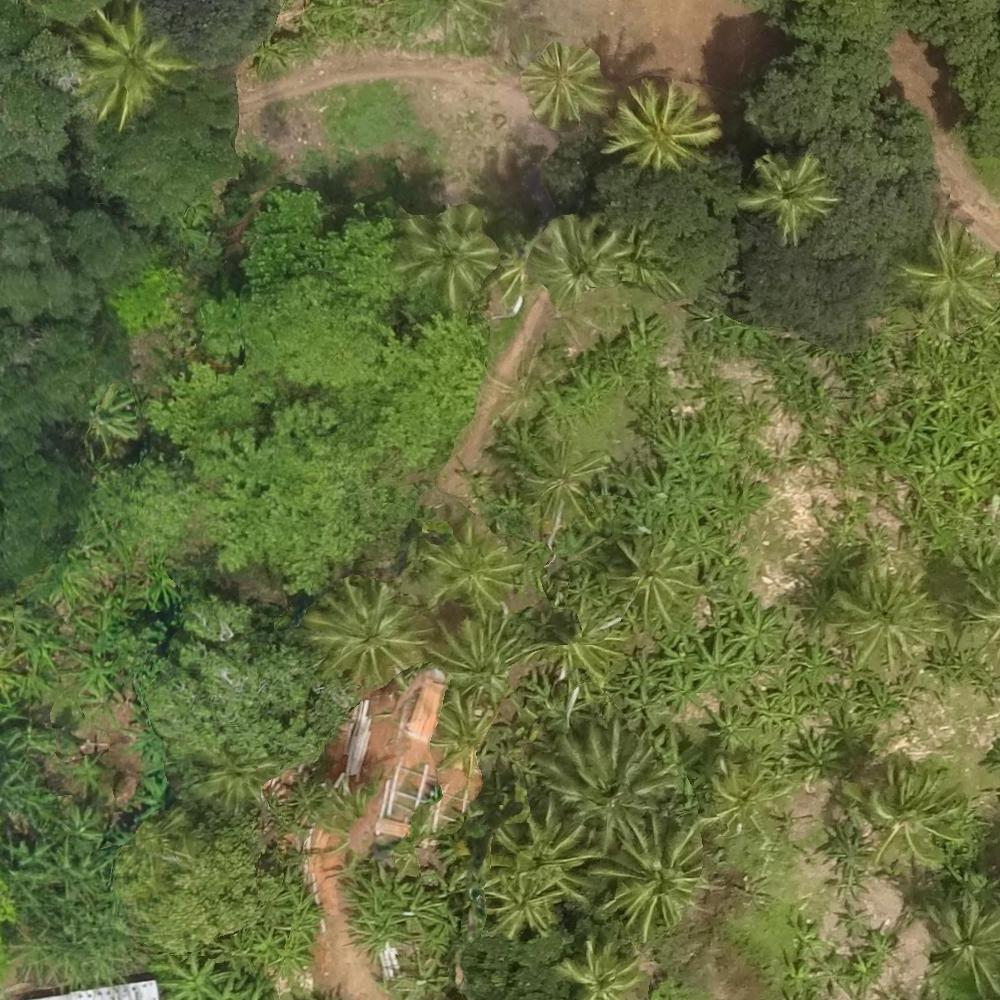Palm: (554, 726, 666, 835), (77, 11, 187, 119), (600, 823, 704, 933), (495, 800, 596, 904), (318, 583, 417, 682), (899, 229, 994, 326), (871, 768, 967, 863), (612, 84, 715, 169), (839, 574, 928, 667), (396, 211, 491, 298), (425, 524, 519, 607), (749, 151, 838, 231), (428, 613, 517, 693), (534, 221, 620, 299), (611, 544, 689, 624), (523, 44, 604, 121), (524, 448, 601, 526), (700, 763, 779, 838), (557, 939, 640, 1000), (487, 873, 561, 936)
